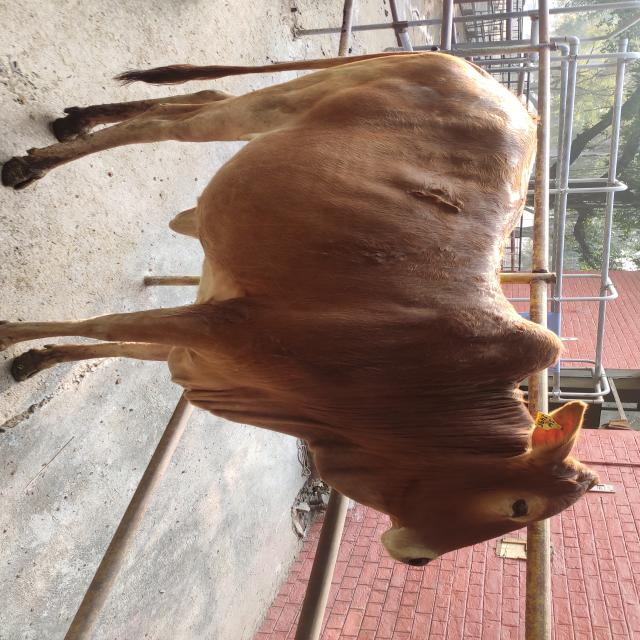cow: (1, 50, 600, 566)
hump: (509, 306, 566, 397)
